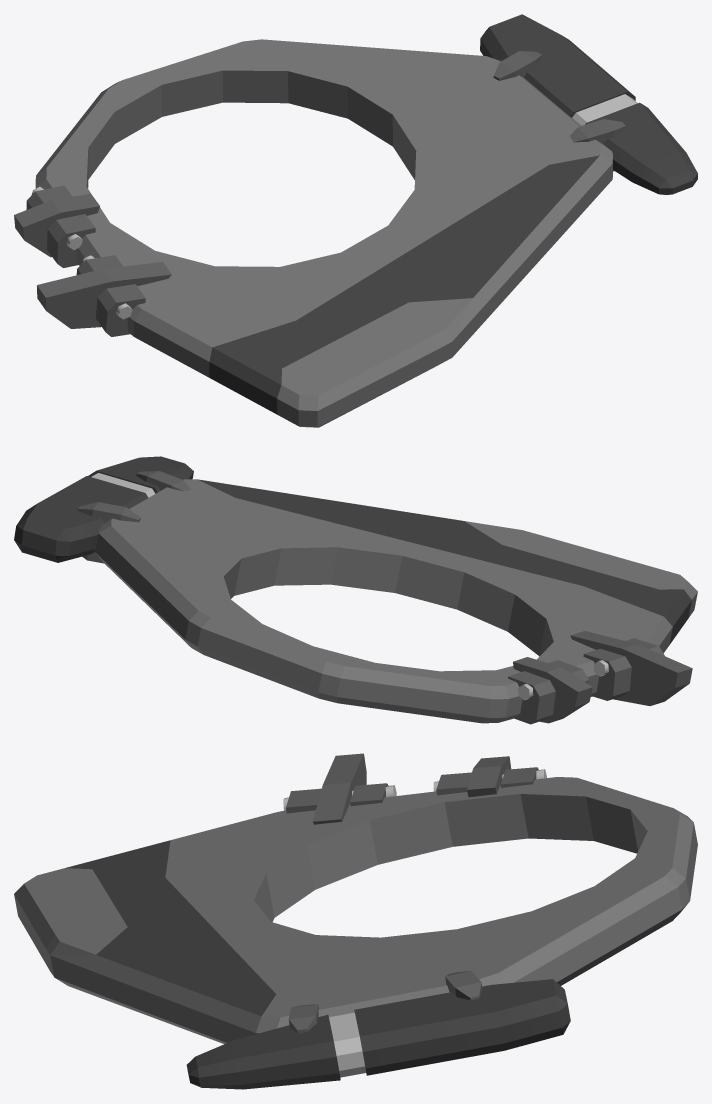
File: WingLeft_001.fbx
3 views of the same model, one above another, from view 1: azimuth 30°, elevation 25°; view 2: azimuth 150°, elevation 25°; view 3: azimuth 270°, elevation 25° (orthographic). The views are drawn at different scales.
Parts seen in each view (by area): view 1: WingLeft_001; view 2: WingLeft_001; view 3: WingLeft_001.
Part boxes in pixels (x1=…): WingLeft_001: x1=14, y1=14, x2=697, y2=427; WingLeft_001: x1=14, y1=456, x2=697, y2=724; WingLeft_001: x1=14, y1=753, x2=697, y2=1089.
Size of the model in its own units: 1416 by 1161 by 336.
